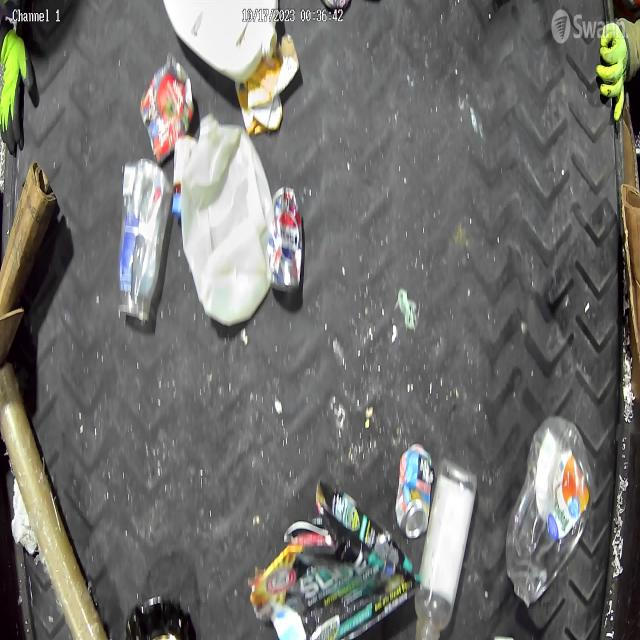milk-jug: (184, 112, 279, 330)
